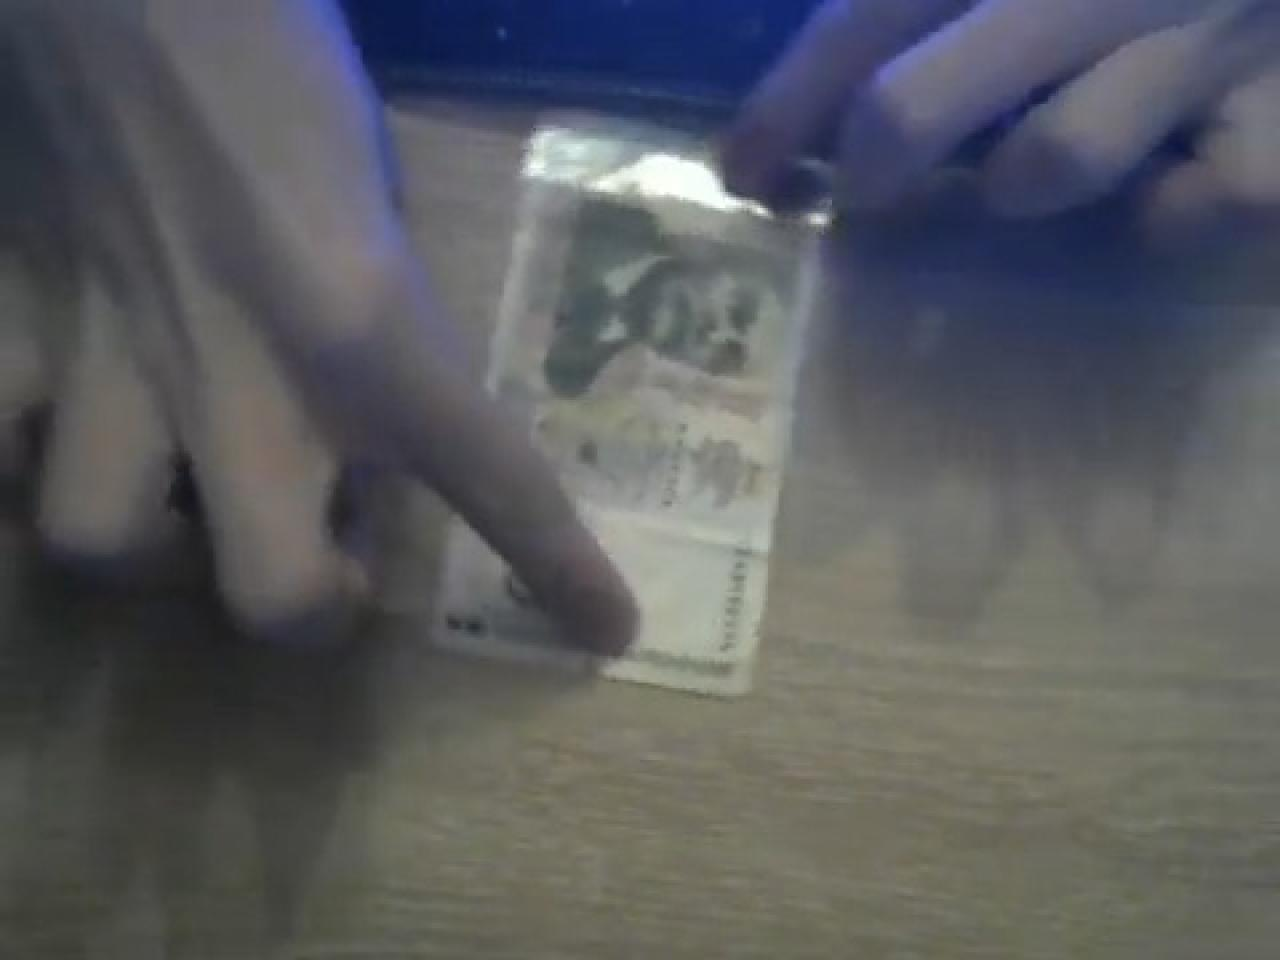10leva: (488, 125, 824, 699)
